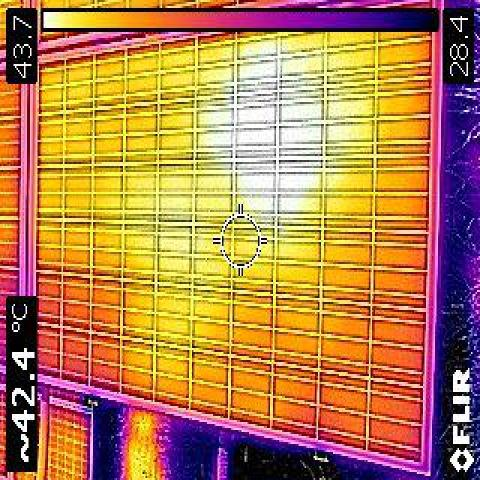fault: (210, 45, 337, 204)
